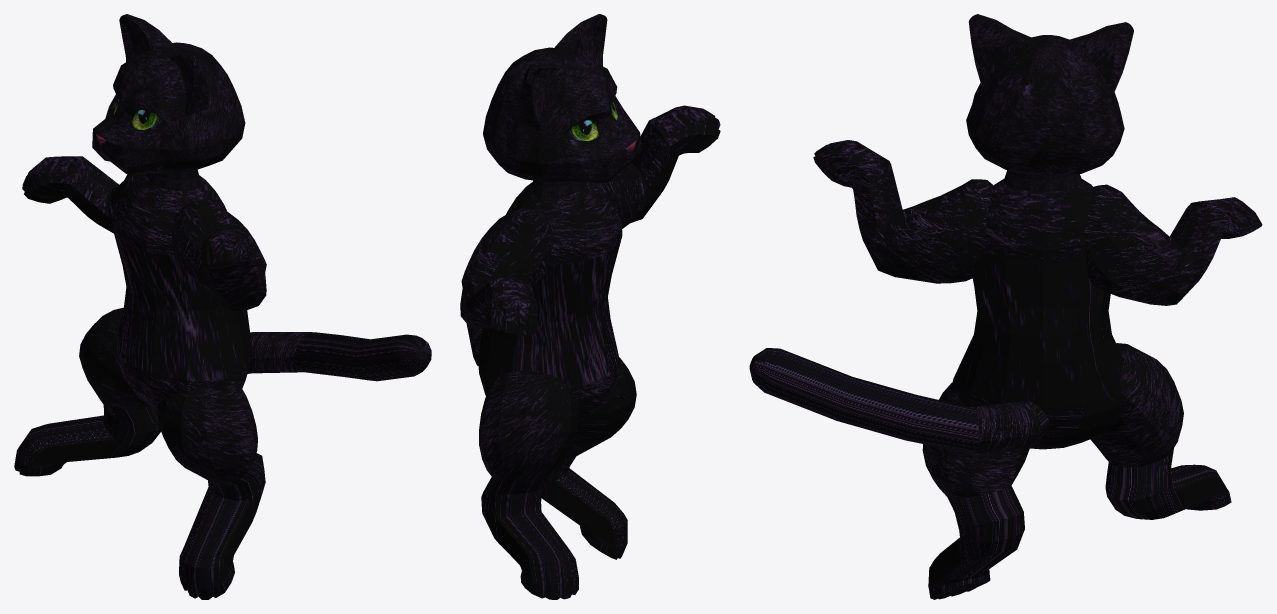
The model's file is Cat_fly.fbx.
The picture shows the model from 3 angles, left to right: view 1: azimuth 30°, elevation 25°; view 2: azimuth 150°, elevation 25°; view 3: azimuth 270°, elevation 25°; orthographic projection. The views are drawn at different scales.
Visible parts, largest first — view 1: body, cat_head2, back_leg1, back_leg2, tail, front_leg1, front_leg2; view 2: body, cat_head2, back_leg2, front_leg2, back_leg1, front_leg1, tail; view 3: body, cat_head2, tail, front_leg1, front_leg2, back_leg2, back_leg1.
Boxes of the visible parts, box(x1,y1,x2,y2) form: body: box(112, 169, 252, 408); cat_head2: box(92, 14, 245, 173); back_leg1: box(157, 385, 265, 599); back_leg2: box(14, 307, 160, 476); tail: box(247, 332, 431, 381); front_leg1: box(172, 200, 266, 311); front_leg2: box(22, 156, 141, 233); body: box(478, 180, 622, 421); cat_head2: box(483, 14, 641, 183); back_leg2: box(479, 370, 579, 599); front_leg2: box(460, 208, 553, 335); back_leg1: box(541, 357, 636, 559); front_leg1: box(598, 105, 720, 228); tail: box(466, 324, 482, 365); body: box(951, 170, 1123, 449); cat_head2: box(966, 14, 1133, 175); tail: box(749, 348, 1049, 453); front_leg1: box(813, 140, 994, 283); front_leg2: box(1084, 184, 1262, 305); back_leg2: box(1090, 343, 1231, 519); back_leg1: box(922, 382, 1029, 599).
Size of the model in its own units: 2.69 by 6.29 by 4.98.
